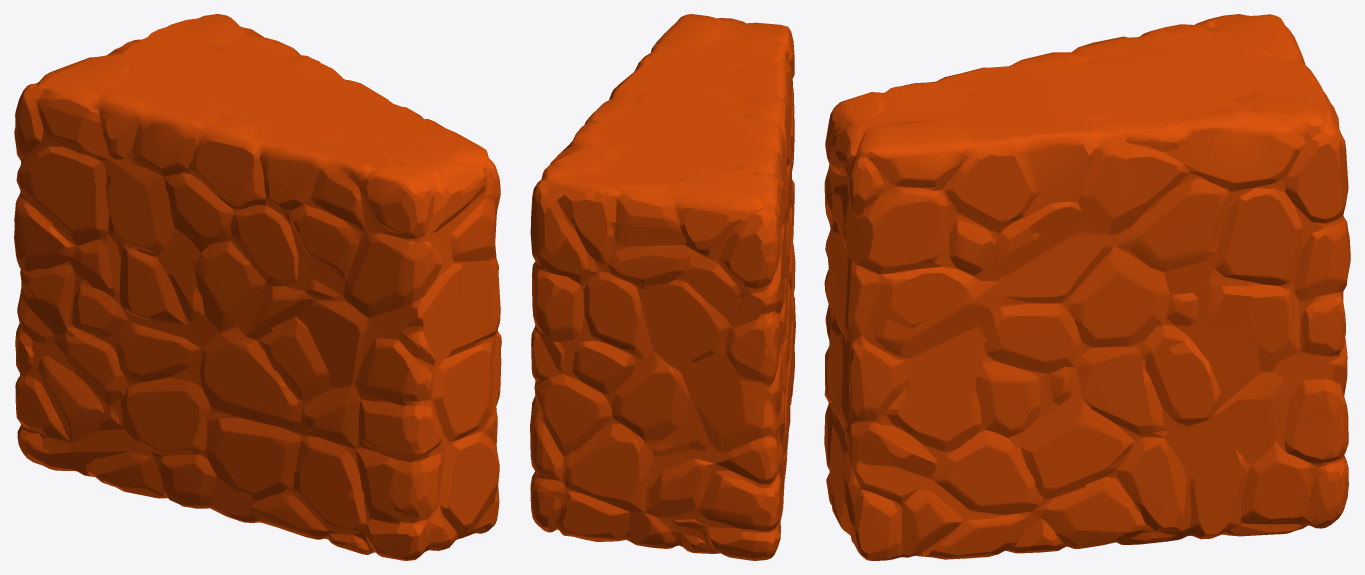
3 renders of one model, left to right at view 1: azimuth 30°, elevation 25°; view 2: azimuth 150°, elevation 25°; view 3: azimuth 270°, elevation 25°, orthographic. The views are drawn at different scales.
Visible parts, largest first — view 1: Mesh_56.001_LOD0; view 2: Mesh_56.001_LOD0; view 3: Mesh_56.001_LOD0.
Part boxes in pixels (x1=…): Mesh_56.001_LOD0: x1=14, y1=14, x2=501, y2=560; Mesh_56.001_LOD0: x1=530, y1=14, x2=795, y2=560; Mesh_56.001_LOD0: x1=824, y1=14, x2=1350, y2=560.
Size of what is drawn, in the model's own units: 3997 by 5122 by 5771.
